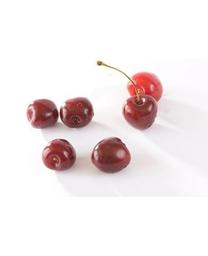cherry: (91, 137, 131, 173), (122, 94, 158, 130), (42, 139, 76, 171), (60, 97, 95, 128), (126, 72, 162, 101), (27, 99, 58, 129)
